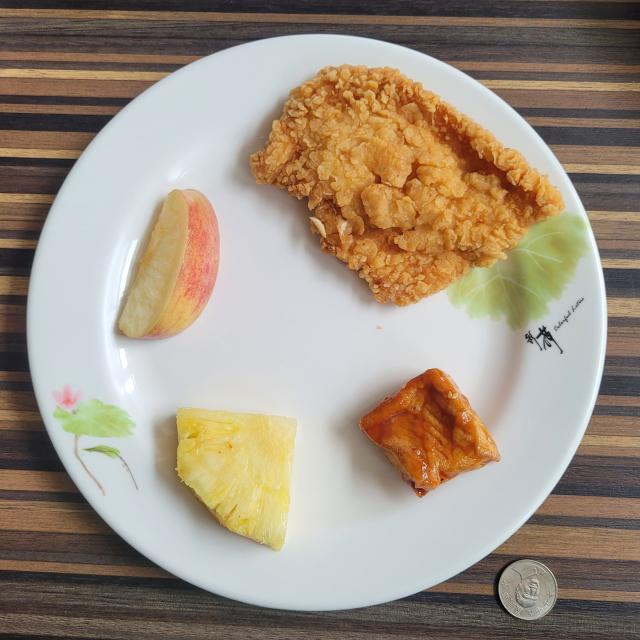apple -sliced-: (119, 190, 220, 339)
coin: (499, 560, 558, 620)
creamy tofu: (360, 369, 500, 498)
fried chicken cutlet: (250, 65, 564, 305)
pineapple: (176, 408, 296, 550)
